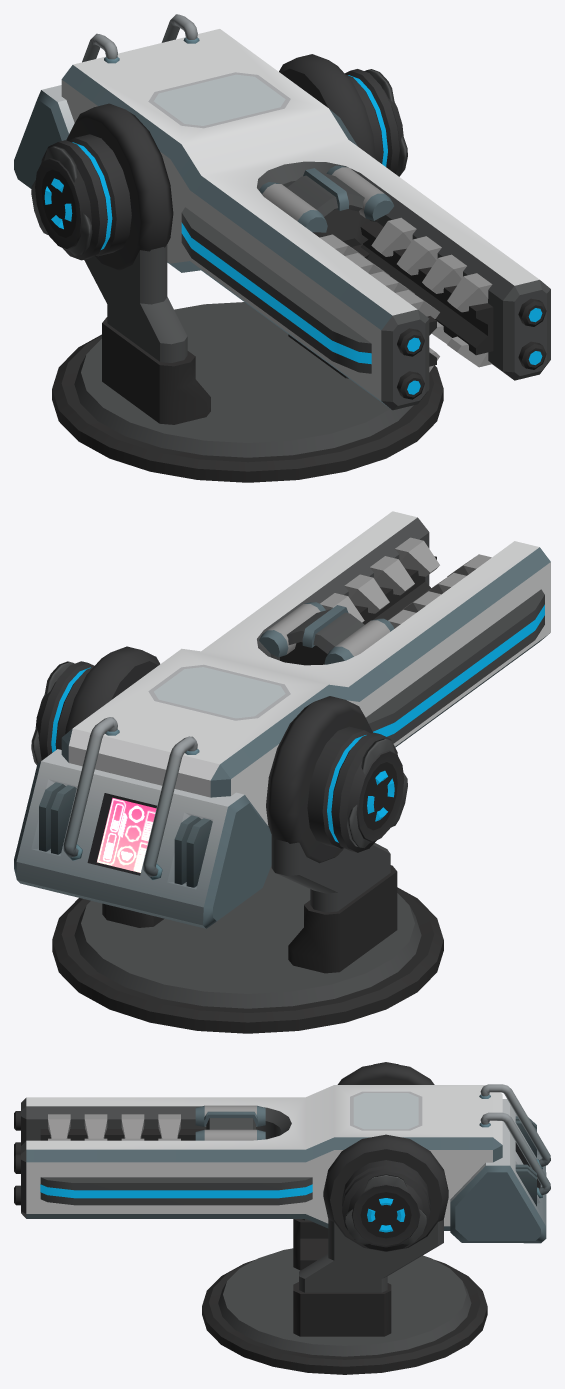
The model's file is Turret_004.glb.
3 views of the same model, one above another, from view 1: azimuth 30°, elevation 25°; view 2: azimuth 150°, elevation 25°; view 3: azimuth 270°, elevation 25° (orthographic). The views are drawn at different scales.
Visible parts, largest first — view 1: Turret_004_body_001, Turret_004; view 2: Turret_004_body_001, Turret_004; view 3: Turret_004_body_001, Turret_004.
Boxes of the visible parts, x1,y1,x2,y2 form: Turret_004_body_001: (14, 14, 550, 410); Turret_004: (52, 54, 443, 482); Turret_004_body_001: (14, 511, 550, 928); Turret_004: (52, 646, 443, 1033); Turret_004_body_001: (14, 1062, 550, 1251); Turret_004: (202, 1062, 487, 1374).
Bounding box in the file's own units: 1.55 × 1.29 × 2.91.
3 materials, 3 textured.
